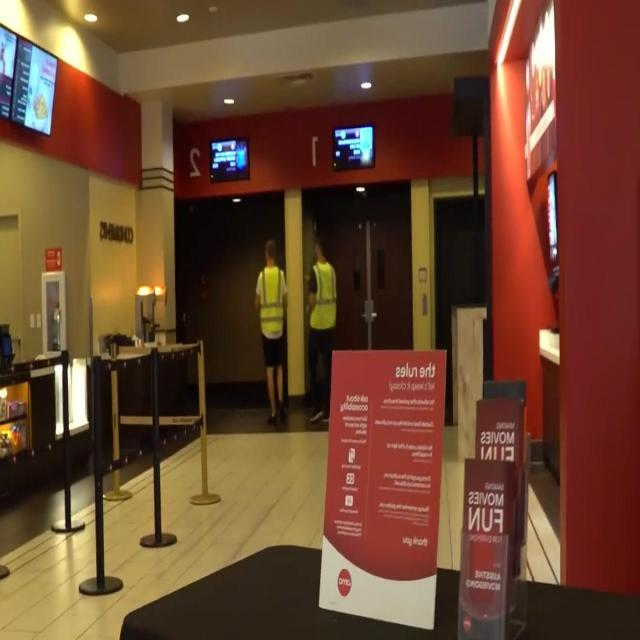reflective_jacket: (256, 265, 287, 339), (308, 260, 339, 332)
